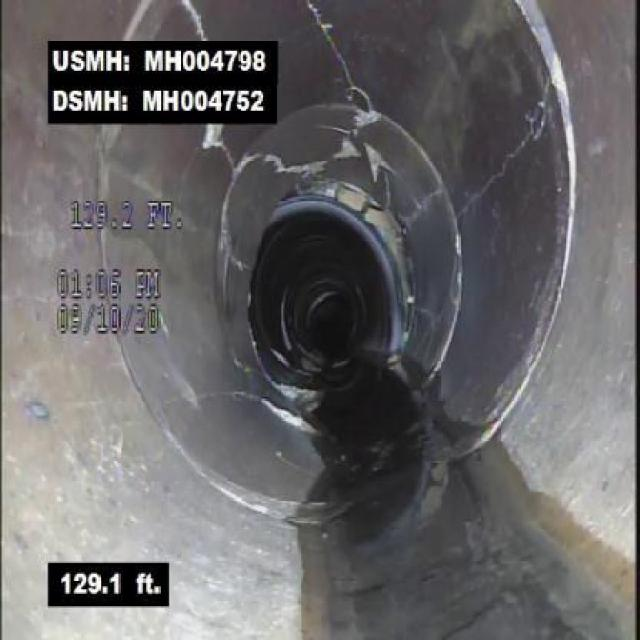Crack: (184, 2, 242, 166), (458, 100, 548, 203), (300, 1, 360, 97)
Joint offset: (518, 2, 570, 106)
